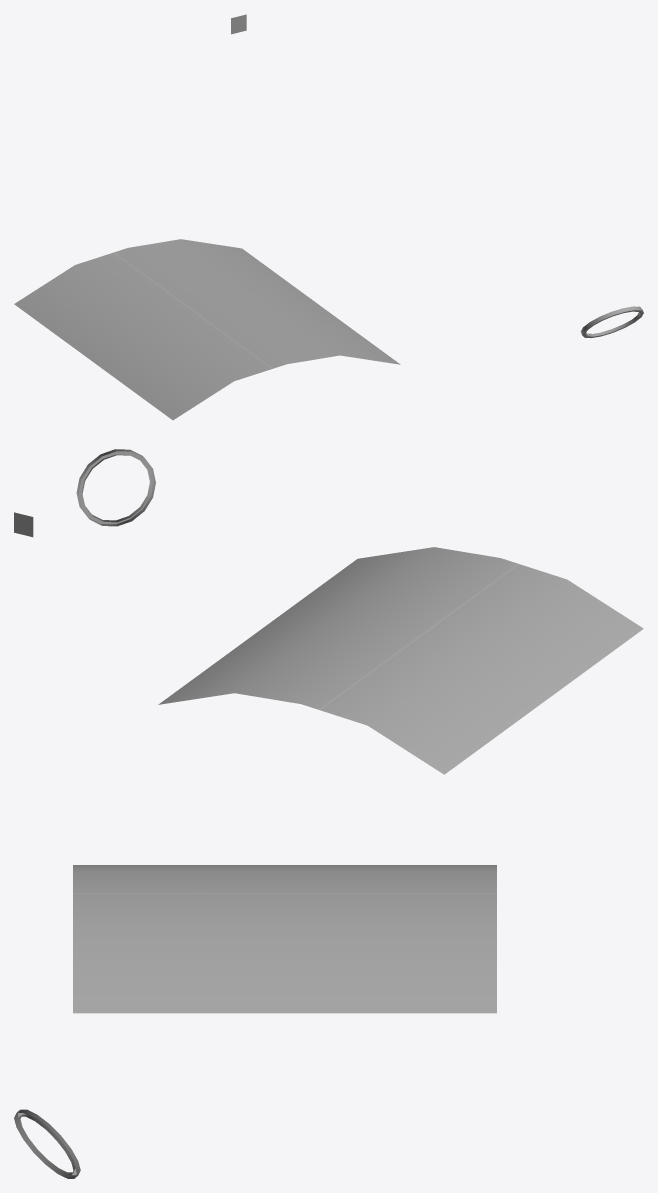
The model's file is CoffeeMachine_27_CoffeeMachine_27_0_GeomSubset_2.obj.
The picture shows the model from 3 angles, top to bottom: view 1: azimuth 30°, elevation 25°; view 2: azimuth 150°, elevation 25°; view 3: azimuth 270°, elevation 25°; orthographic projection. The views are drawn at different scales.
Parts seen in each view (by area): view 1: CoffeeMachine_27_CoffeeMachine_27_0_GeomSubset_2; view 2: CoffeeMachine_27_CoffeeMachine_27_0_GeomSubset_2; view 3: CoffeeMachine_27_CoffeeMachine_27_0_GeomSubset_2.
Boxes of the visible parts, bbox=[...] form: CoffeeMachine_27_CoffeeMachine_27_0_GeomSubset_2: bbox=[14, 14, 643, 420]; CoffeeMachine_27_CoffeeMachine_27_0_GeomSubset_2: bbox=[14, 449, 643, 774]; CoffeeMachine_27_CoffeeMachine_27_0_GeomSubset_2: bbox=[14, 865, 496, 1178].
Bounding box in the file's own units: 0.2964 × 0.1243 × 0.2645.
